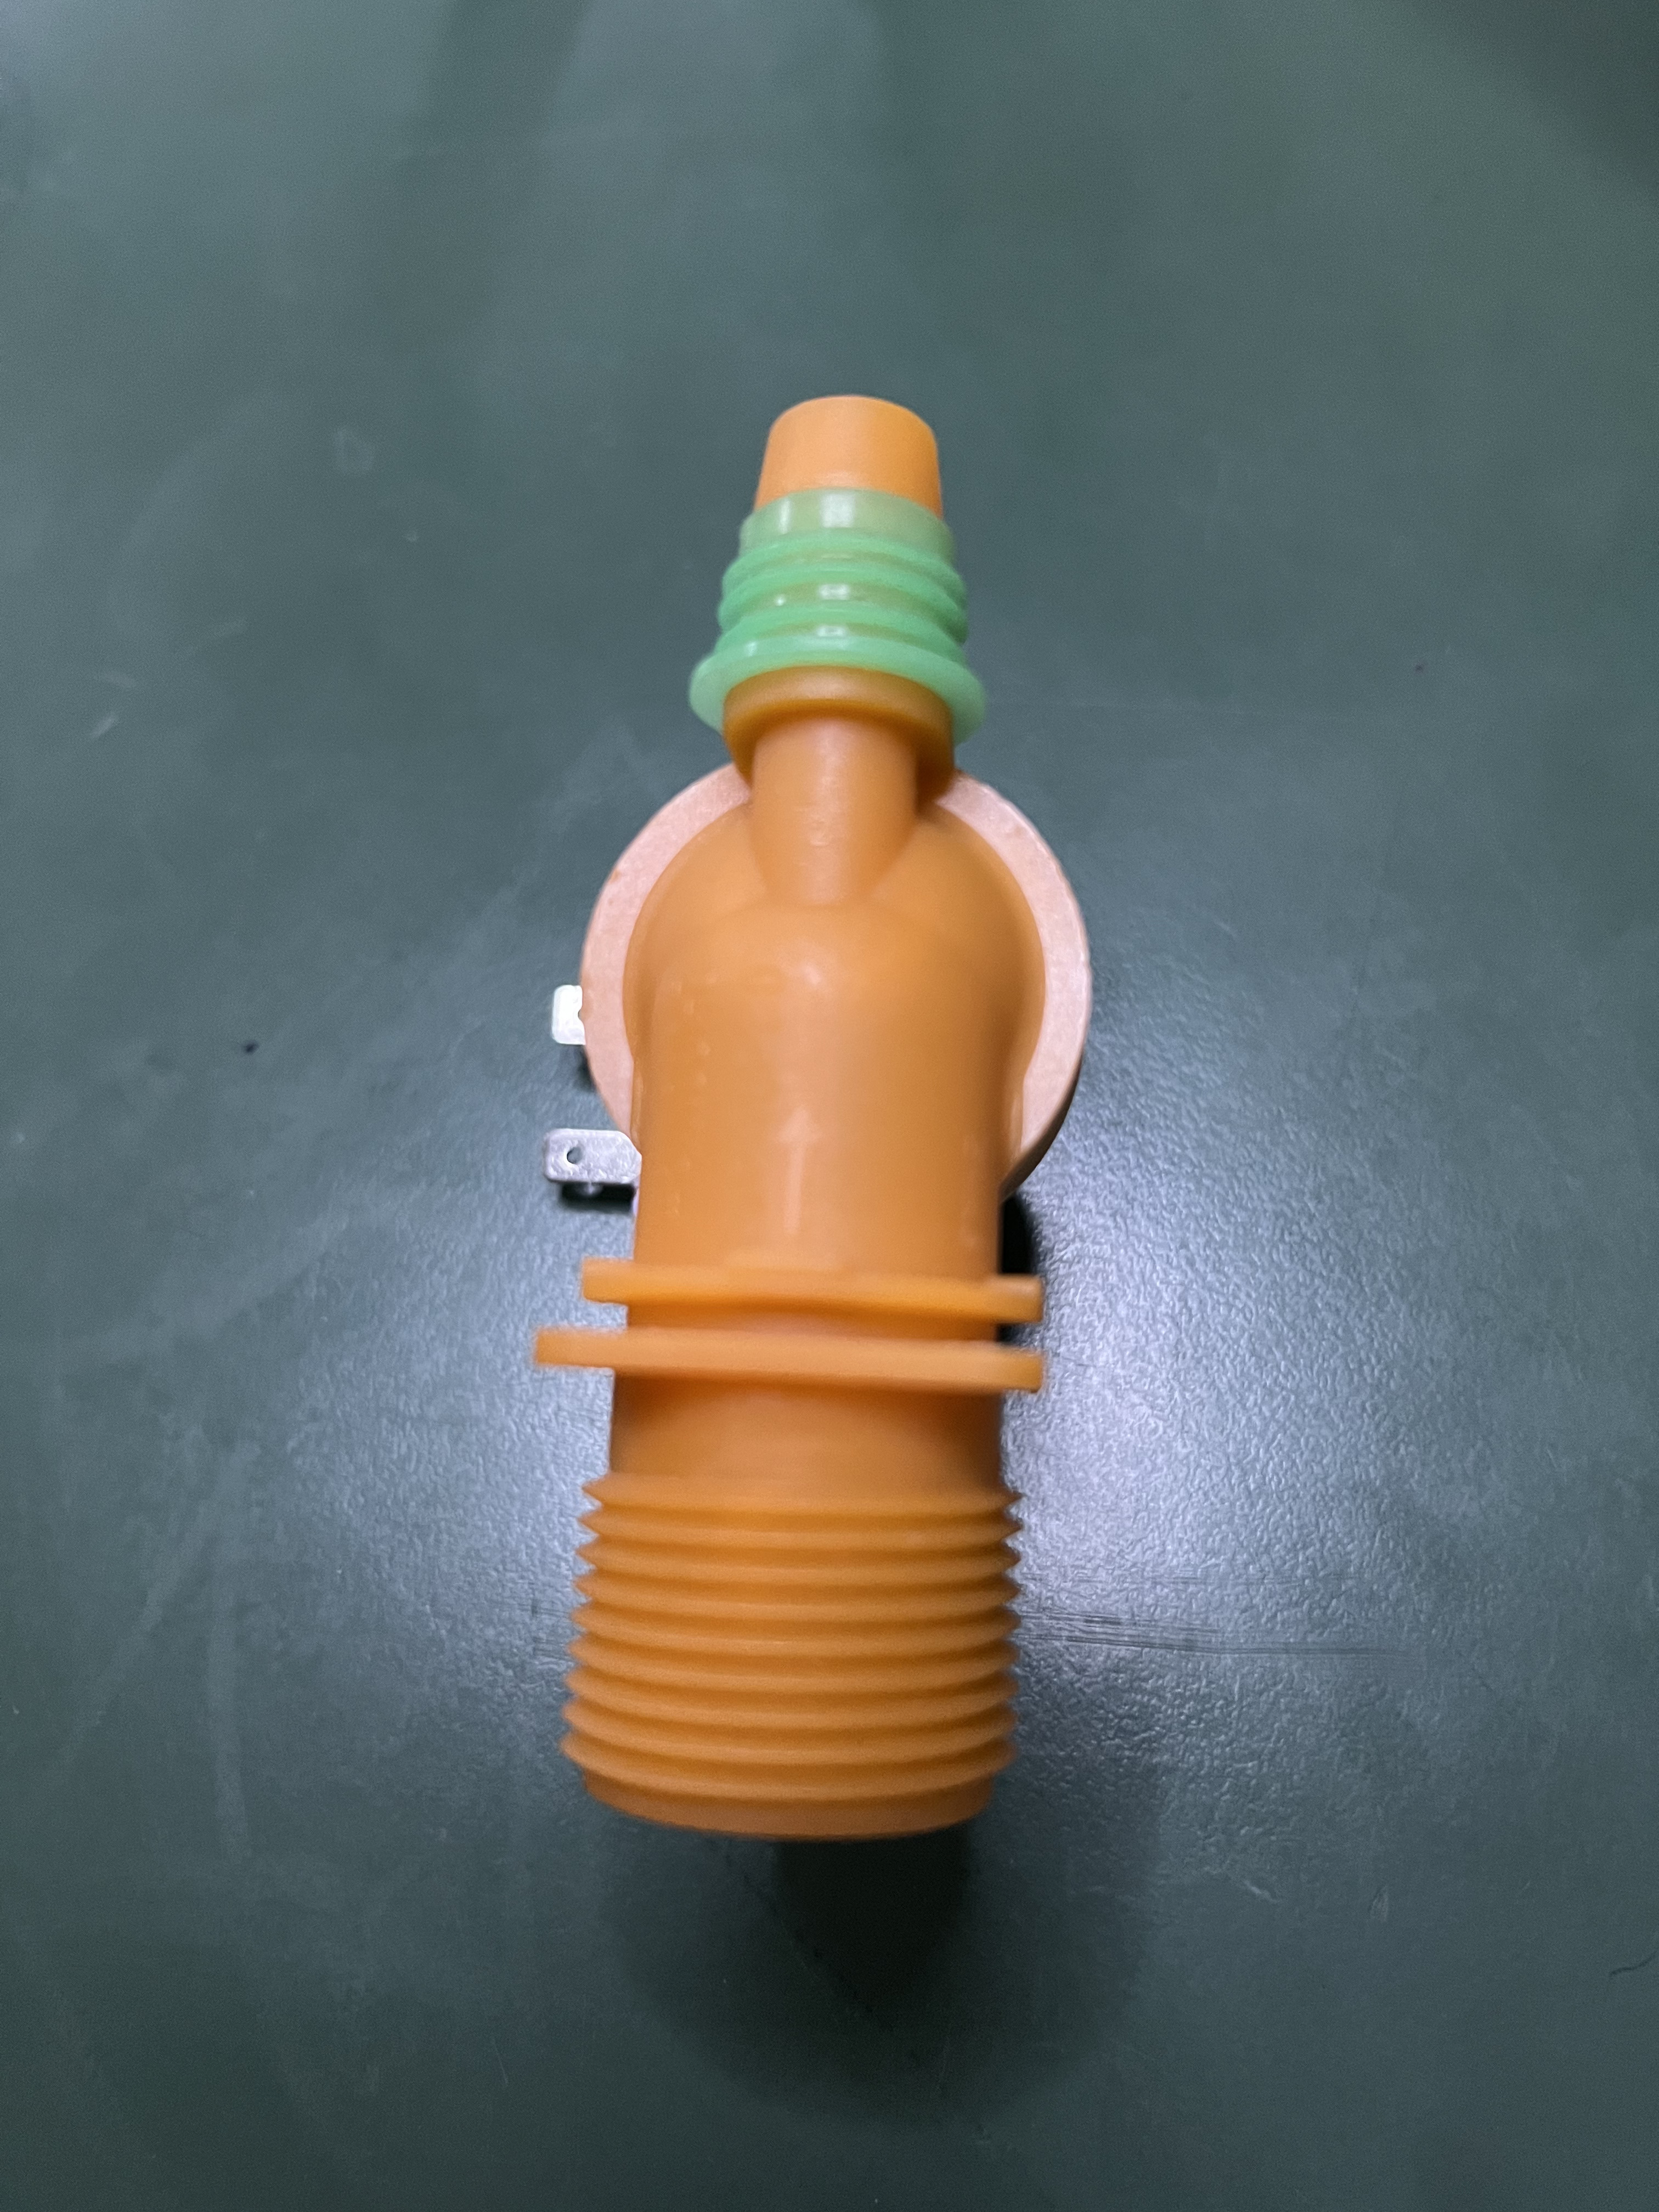ss_inlet_valves: (551, 406, 1340, 1890)
